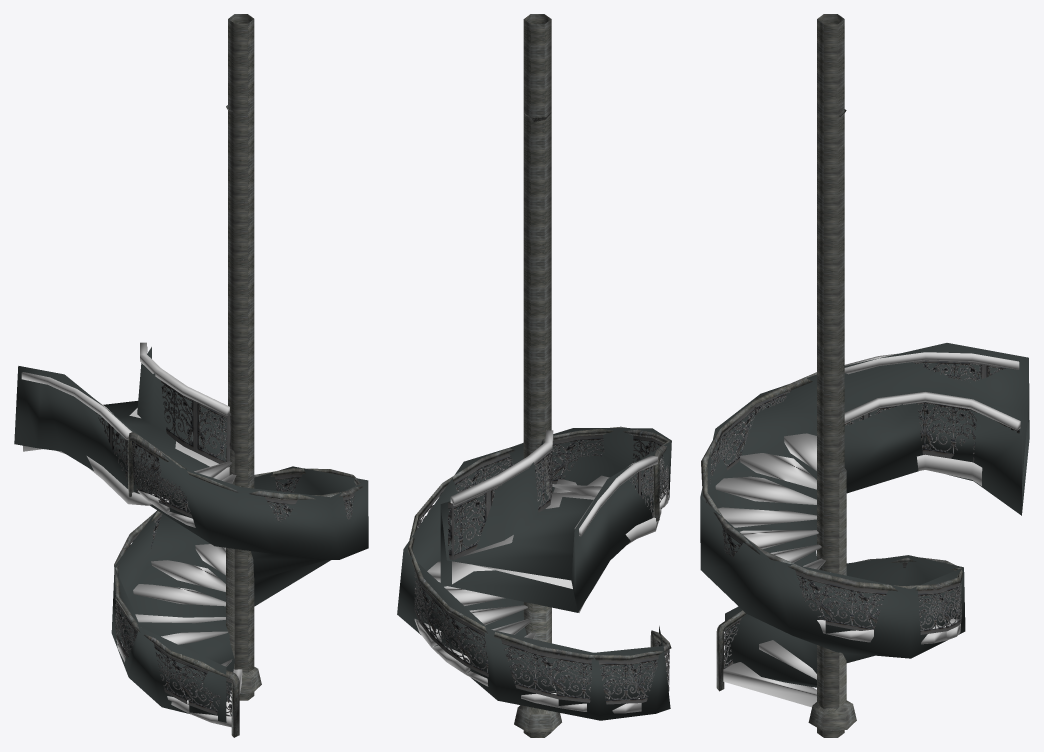
The model's file is SpiralStaircaseWbridge.fbx.
3 renders of one model, left to right at view 1: azimuth 30°, elevation 25°; view 2: azimuth 150°, elevation 25°; view 3: azimuth 270°, elevation 25°, orthographic. The views are drawn at different scales.
Parts seen in each view (by area): view 1: Spiral StairRightCollMesh, Spiral StairCase_Righttwist; view 2: Spiral StairRightCollMesh, Spiral StairCase_Righttwist; view 3: Spiral StairRightCollMesh, Spiral StairCase_Righttwist.
Boxes of the visible parts, box(x1,y1,x2,y2) form: Spiral StairRightCollMesh: box(14, 14, 368, 722); Spiral StairCase_Righttwist: box(21, 105, 363, 737); Spiral StairRightCollMesh: box(397, 14, 671, 737); Spiral StairCase_Righttwist: box(407, 112, 671, 732); Spiral StairRightCollMesh: box(700, 14, 1029, 737); Spiral StairCase_Righttwist: box(701, 109, 1020, 730).
Bounding box in the file's own units: 545 × 1472 × 616.
